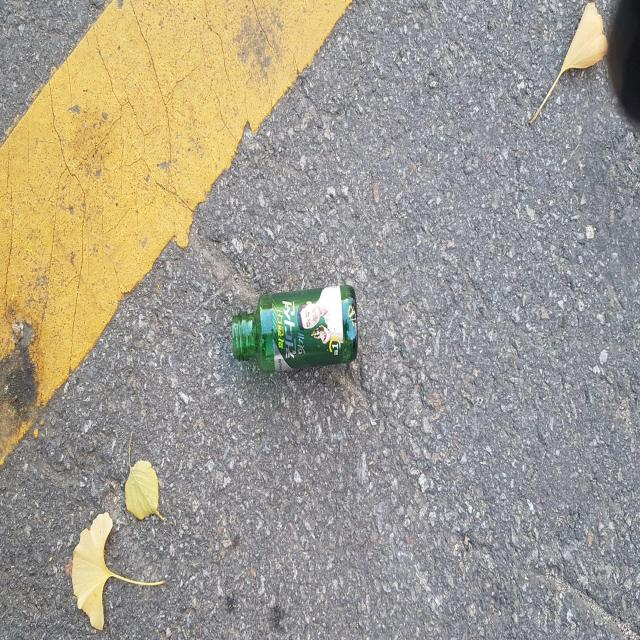glass: (232, 284, 358, 372)
